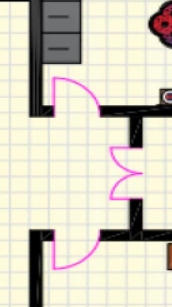door: (49, 217, 111, 283), (46, 67, 105, 129)
double door: (101, 138, 150, 210)
